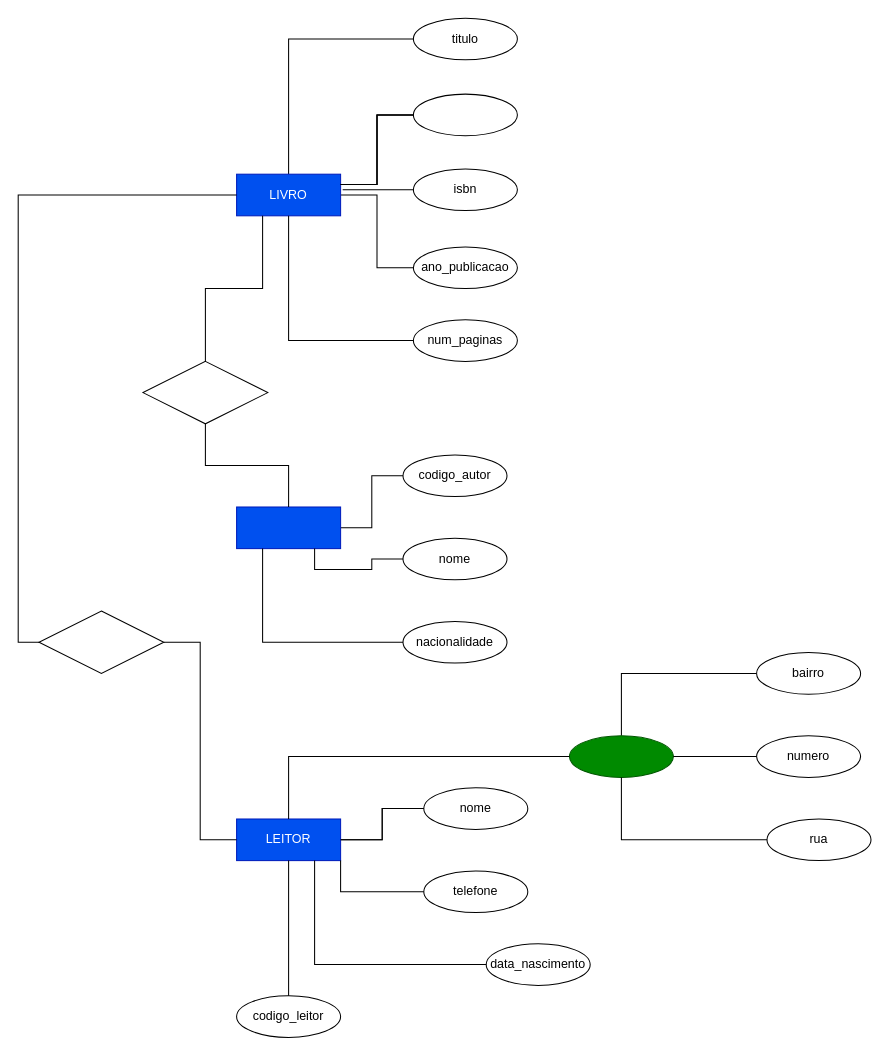
Image size: 889x1056. Some labels were removed from this diagram. Each missing label, with the box of its shape:
AUTOR: (236, 506, 341, 549)
editora: (412, 93, 517, 136)
empresta: (38, 610, 164, 673)
endereco: (568, 735, 673, 777)
escreve: (142, 360, 268, 424)
